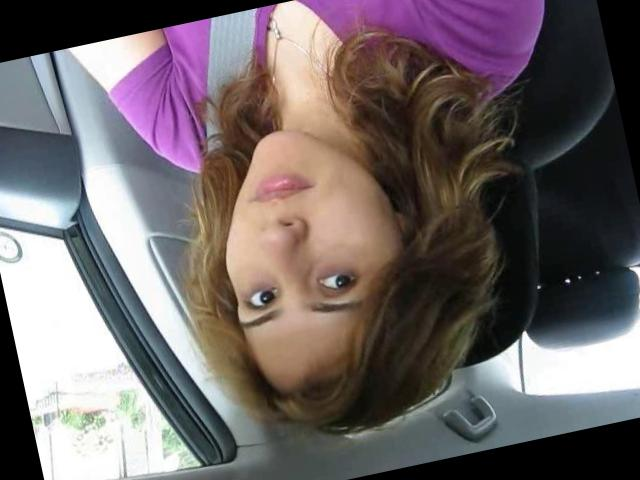eye_open: (311, 258, 368, 308), (236, 278, 286, 320)
face: (193, 109, 410, 360)
